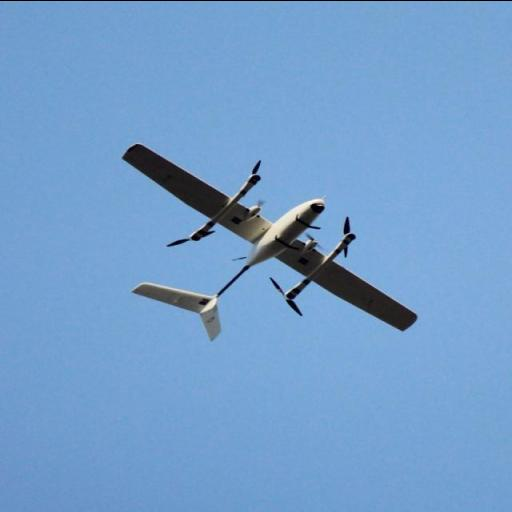uav: (119, 141, 421, 342)
